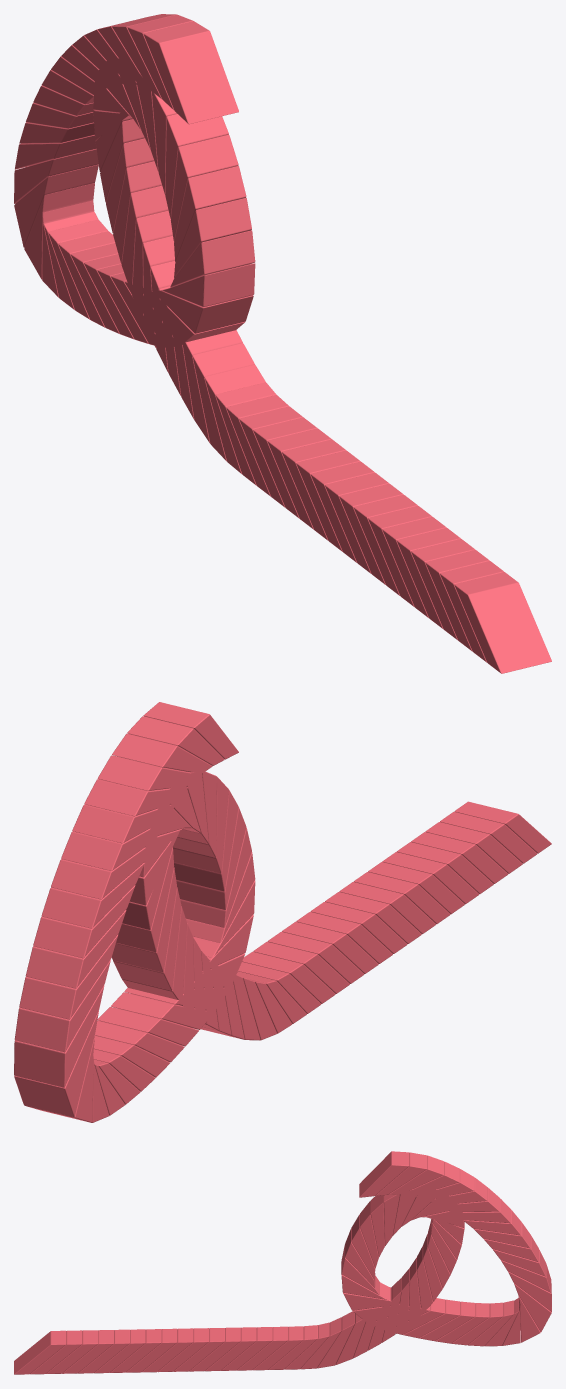
3 views of the same model, one above another, from view 1: azimuth 30°, elevation 25°; view 2: azimuth 150°, elevation 25°; view 3: azimuth 270°, elevation 25° (orthographic). The views are drawn at different scales.
Parts seen in each view (by area): view 1: Cube; view 2: Cube; view 3: Cube.
Part boxes in pixels (left/top/right/bottom): Cube: left=14, top=14, right=551, bottom=673; Cube: left=14, top=702, right=551, bottom=1122; Cube: left=14, top=1151, right=551, bottom=1374.
Size of the model in its own units: 60 by 425 by 988.
